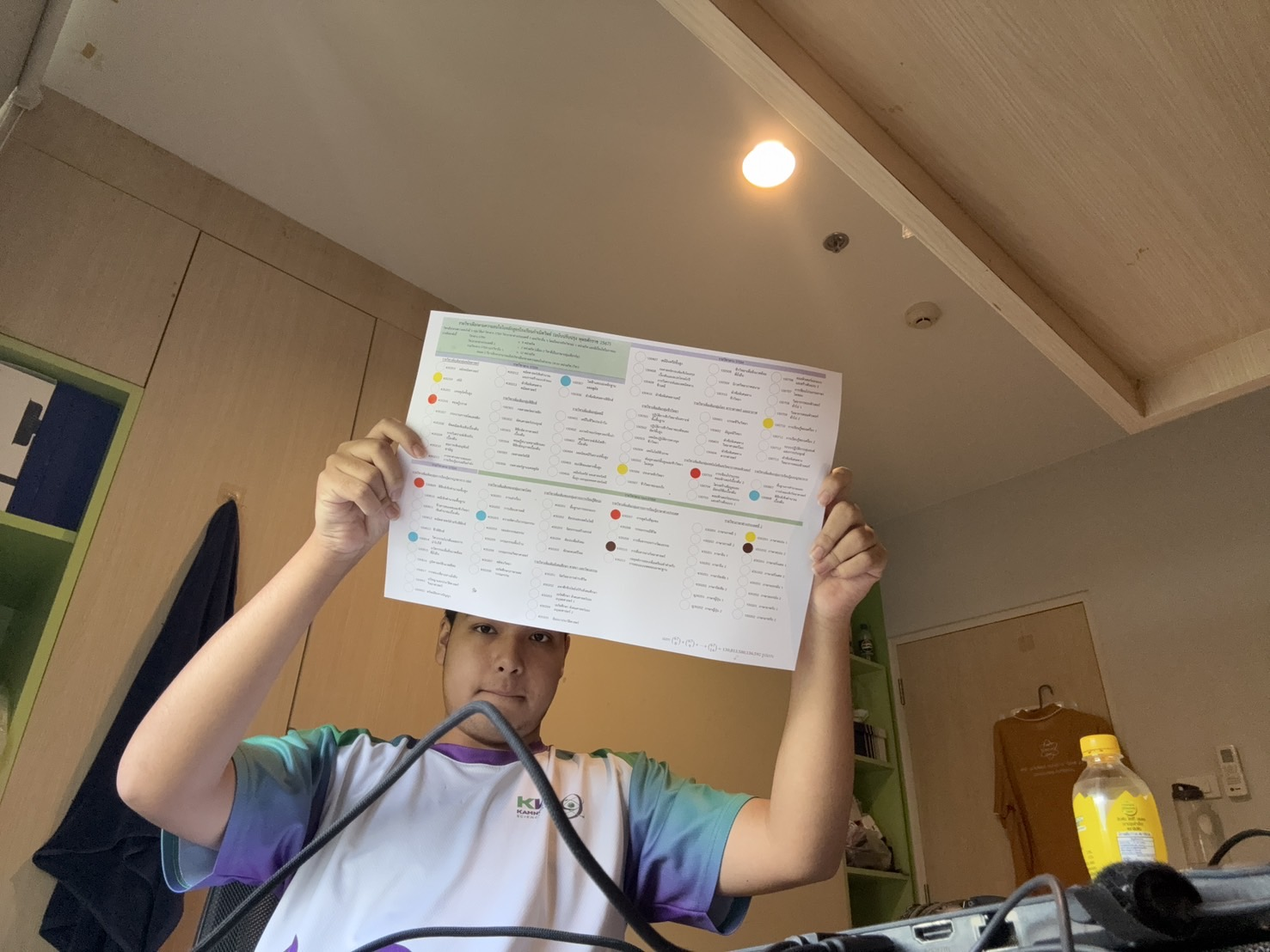paper: (383, 310, 843, 671)
